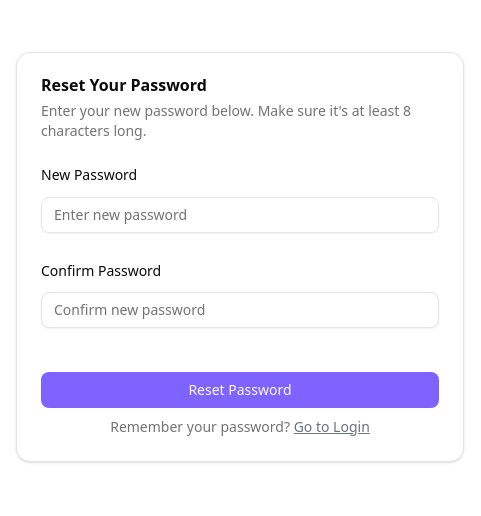
Test case: ResetPasswordForm › submits form successfully and shows success message
Type "password123" into the password field labelled "New Password".
click(240, 214); type("password123")  # box x1=41 y1=196 x2=439 y2=232
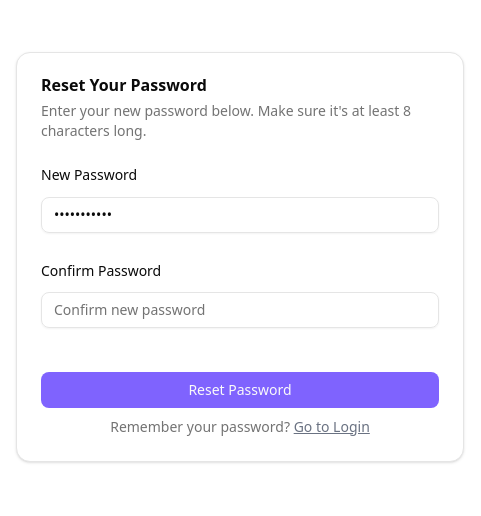
Type "password123" into the password field labelled "Confirm Password".
click(240, 310); type("password123")  # box x1=41 y1=292 x2=439 y2=328
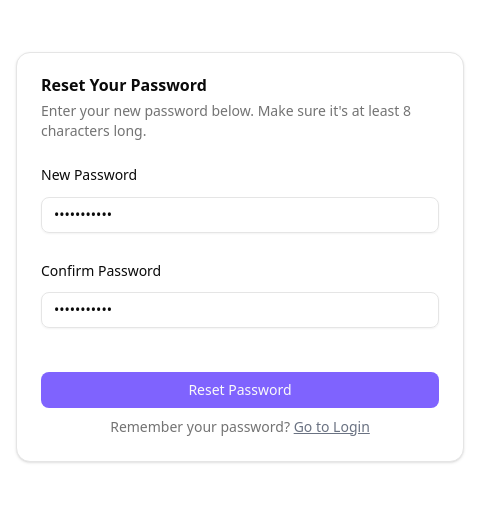
Click the button "Reset Password".
click(240, 390)  # box x1=41 y1=372 x2=439 y2=408
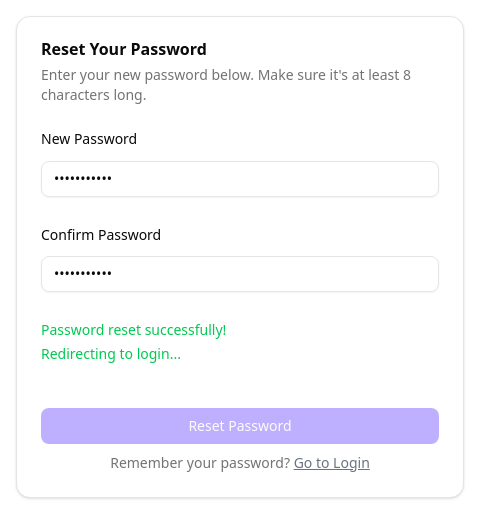
Now the text "Password reset successfully!" is shown, box x1=41 y1=320 x2=226 y2=339
